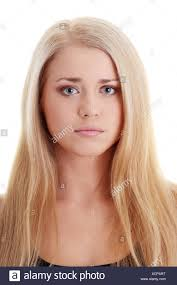Sad: (48, 67, 139, 147)
